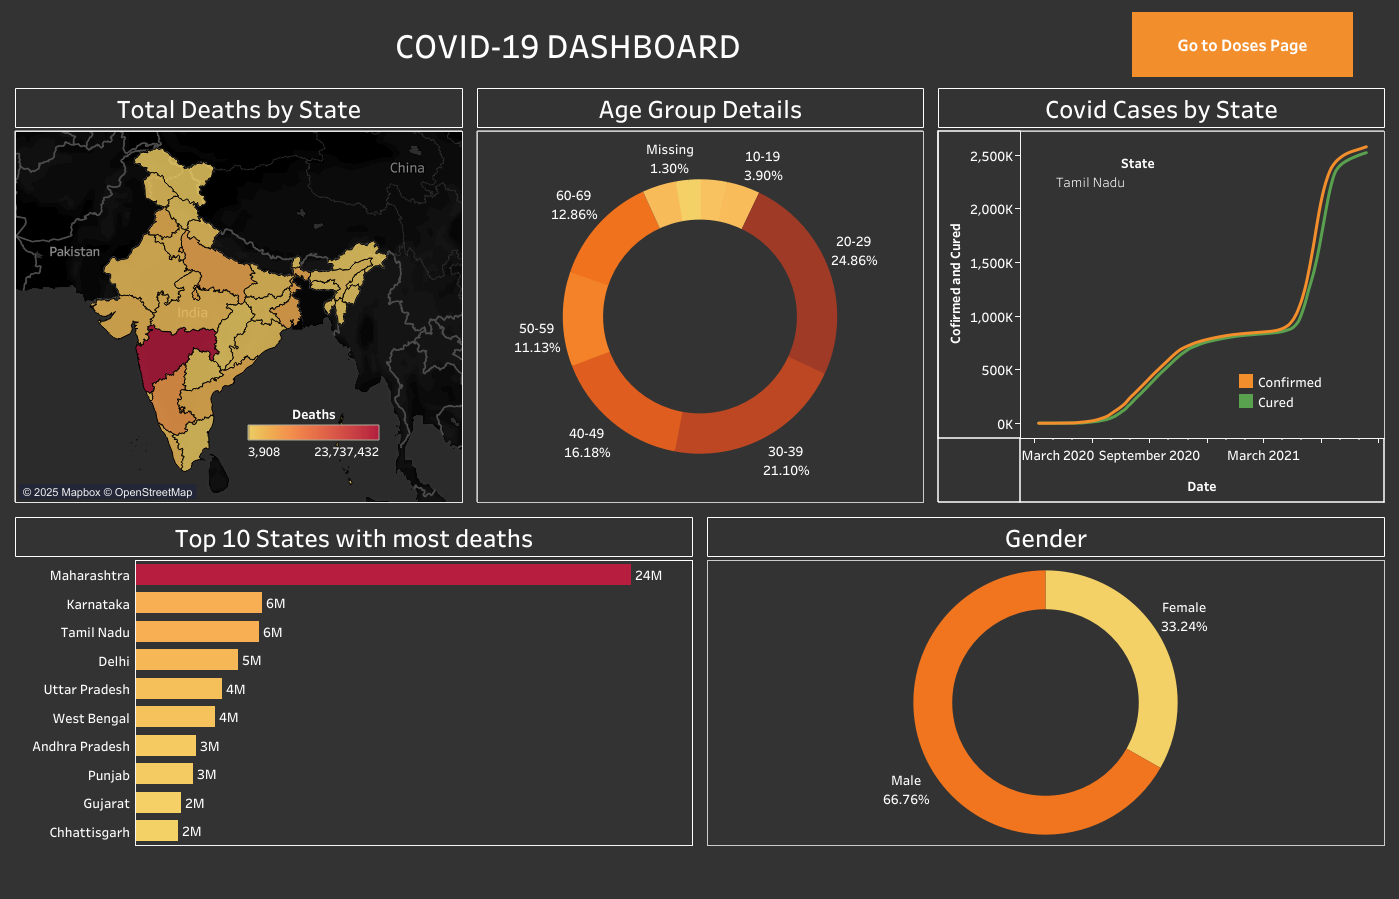

The dashboard page shown, as its layout file describes it:
{"tool":"tableau","page":{"name":"Main Dashboard","canvas":[1400,900],"ordinal":1},"visuals":[{"type":"text","box":[8,8,1120,73]},{"type":"dashboard-object","box":[1128,8,229,73]},{"type":"worksheet","title":"Map for total deaths","mark":"Automatic","box":[8,81,462,429]},{"type":"worksheet","title":"Age Group Details","mark":"Pie","rows":["Calculation_1124774064493584387","Calculation_1124774064493604869"],"box":[470,81,461,429]},{"type":"worksheet","title":"Confirmed and cured","mark":"Automatic","cols":["Date"],"box":[931,81,461,429]},{"type":"filter","title":"Confirmed and cured","param":"[federated.17siyn80pusmrp17j10yd0lhz2ls].[none:State/UnionTerritory:nk]","box":[1054,152,168,58]},{"type":"legend","title":"Confirmed and cured","param":"[federated.17siyn80pusmrp17j10yd0lhz2ls].[:Measure Names]","box":[1236,371,140,48]},{"type":"legend","title":"Map for total deaths","param":"[federated.17siyn80pusmrp17j10yd0lhz2ls].[sum:Deaths:qk]","box":[244,400,140,67]},{"type":"worksheet","title":"deaths","mark":"Automatic","rows":["State/UnionTerritory"],"cols":["Deaths"],"box":[8,510,692,350]},{"type":"worksheet","title":"Gender without missing values","mark":"Pie","rows":["Calculation_1124774064500133895","Calculation_1124774064500150281"],"box":[700,510,692,350]},{"type":"blank","box":[8,860,1384,32]}]}

Visuals, with their boxes in screenshot pixels (x1, y1, x2, y2), scaled from the page's 1400x900 canvas onto the 1399x899 screenshot:
text: BBox(8, 8, 1127, 81)
dashboard-object: BBox(1127, 8, 1356, 81)
"Map for total deaths" worksheet: BBox(8, 81, 470, 509)
"Age Group Details" worksheet (Pie marks): BBox(470, 81, 930, 509)
"Confirmed and cured" worksheet: BBox(930, 81, 1391, 509)
"Confirmed and cured" filter: BBox(1053, 152, 1221, 210)
"Confirmed and cured" legend: BBox(1235, 371, 1375, 419)
"Map for total deaths" legend: BBox(244, 400, 384, 466)
"deaths" worksheet: BBox(8, 509, 700, 859)
"Gender without missing values" worksheet (Pie marks): BBox(700, 509, 1391, 859)
blank: BBox(8, 859, 1391, 891)
